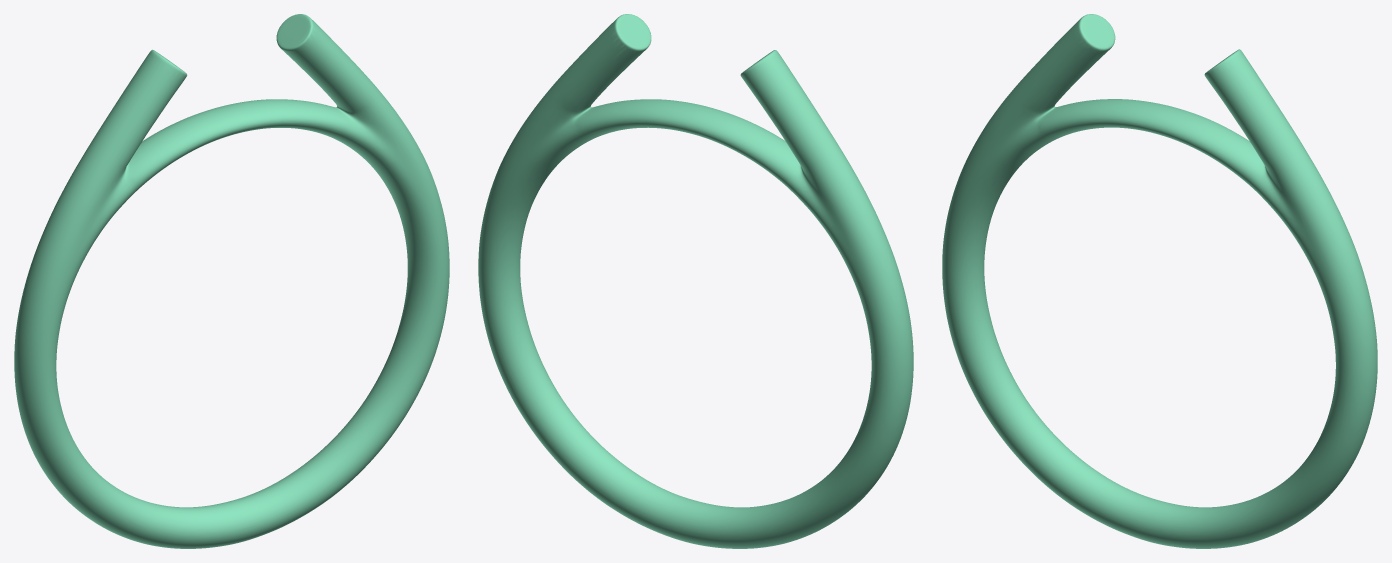
The picture shows the model from 3 angles, left to right: view 1: azimuth 30°, elevation 25°; view 2: azimuth 150°, elevation 25°; view 3: azimuth 330°, elevation 25°; orthographic projection.
Parts seen in each view (by area): view 1: Metal02; view 2: Metal02; view 3: Metal02.
Part boxes in pixels (<box>): Metal02: <box>14,14,449,548</box>; Metal02: <box>478,14,913,548</box>; Metal02: <box>942,14,1377,548</box>.
Bounding box in the file's own units: 20.8 × 23.49 × 1.99.
